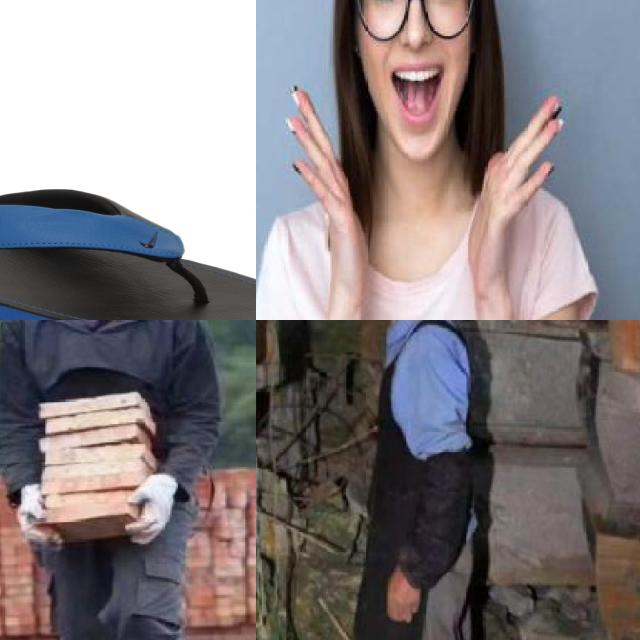Sandals: (0, 179, 256, 320)
face_nomask: (346, 0, 482, 157)
glasses: (347, 0, 478, 46)
hand_glove: (122, 476, 178, 549), (8, 487, 62, 549)
hand_noglove: (466, 97, 563, 309), (286, 85, 370, 304), (385, 568, 425, 628)
person: (256, 0, 600, 320), (0, 320, 222, 640), (337, 320, 494, 640)
